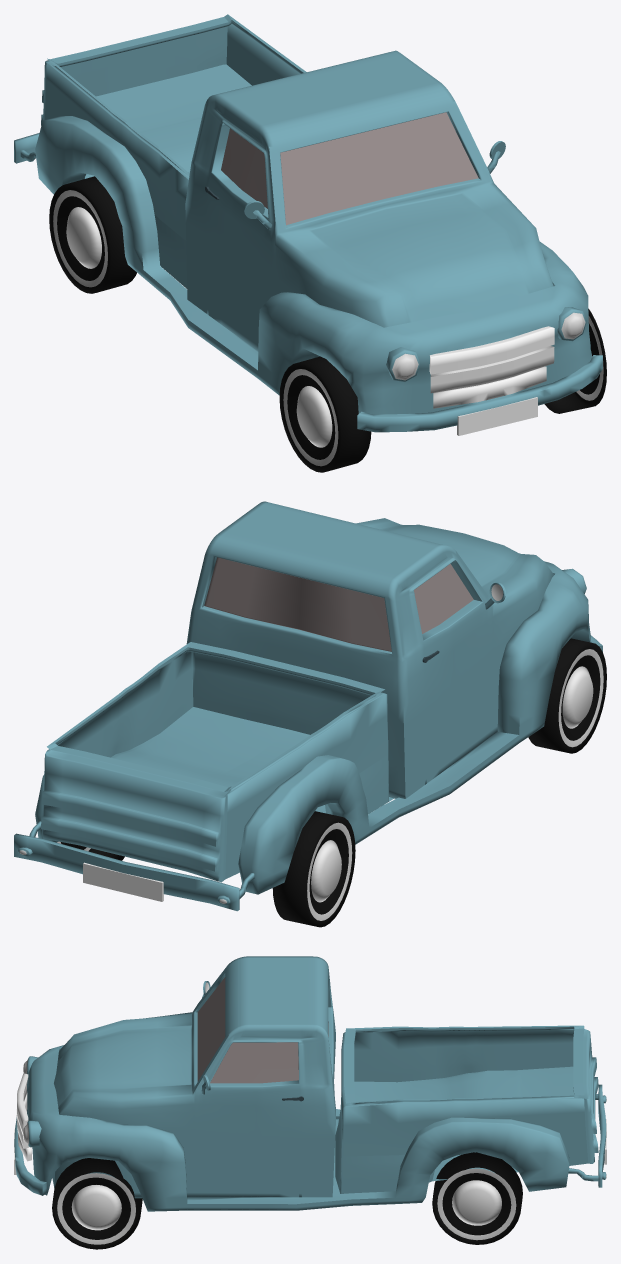
The model's file is car.glb.
3 views of the same model, one above another, from view 1: azimuth 30°, elevation 25°; view 2: azimuth 150°, elevation 25°; view 3: azimuth 270°, elevation 25° (orthographic). The views are drawn at different scales.
Visible parts, largest first — view 1: Cube, Circle, Cube.001, Cube.002; view 2: Cube, Circle, Cube.001; view 3: Cube, Circle, Cube.001, Cube.002.
Boxes of the visible parts, <box> form: Cube: <box>14,14,602,435</box>; Circle: <box>49,176,606,472</box>; Cube.001: <box>221,112,478,225</box>; Cube.002: <box>386,307,586,381</box>; Cube: <box>14,501,602,911</box>; Circle: <box>57,638,606,927</box>; Cube.001: <box>204,557,473,651</box>; Cube: <box>14,956,606,1211</box>; Circle: <box>52,1152,522,1249</box>; Cube.001: <box>197,977,328,1083</box>; Cube.002: <box>23,1056,606,1179</box>.
Bounding box in the file's own units: 183 × 165 × 430.
